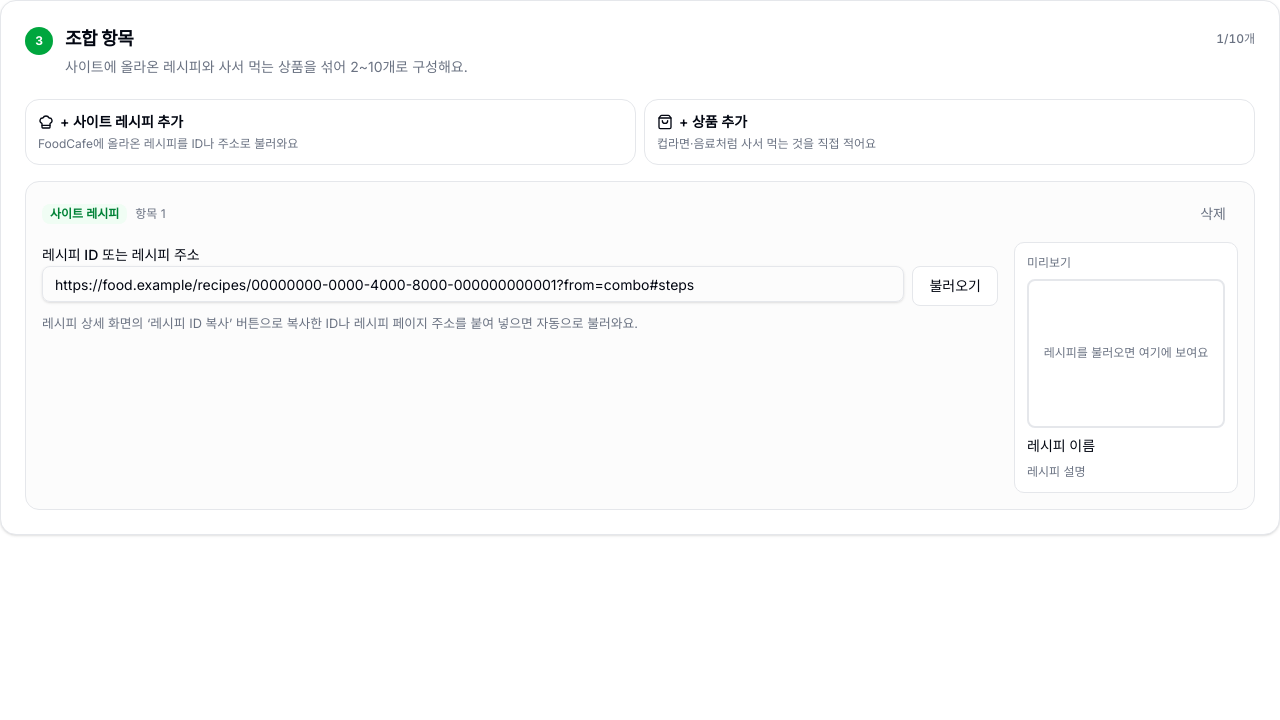
조합 레시피 불러오기 안내 › 쿼리와 해시가 포함된 레시피 링크에서 ID를 추출해 불러온다
The width and height of the screenshot is (1280, 720).
Click the button "불러오기" at (955, 286), box [912, 266, 998, 306]
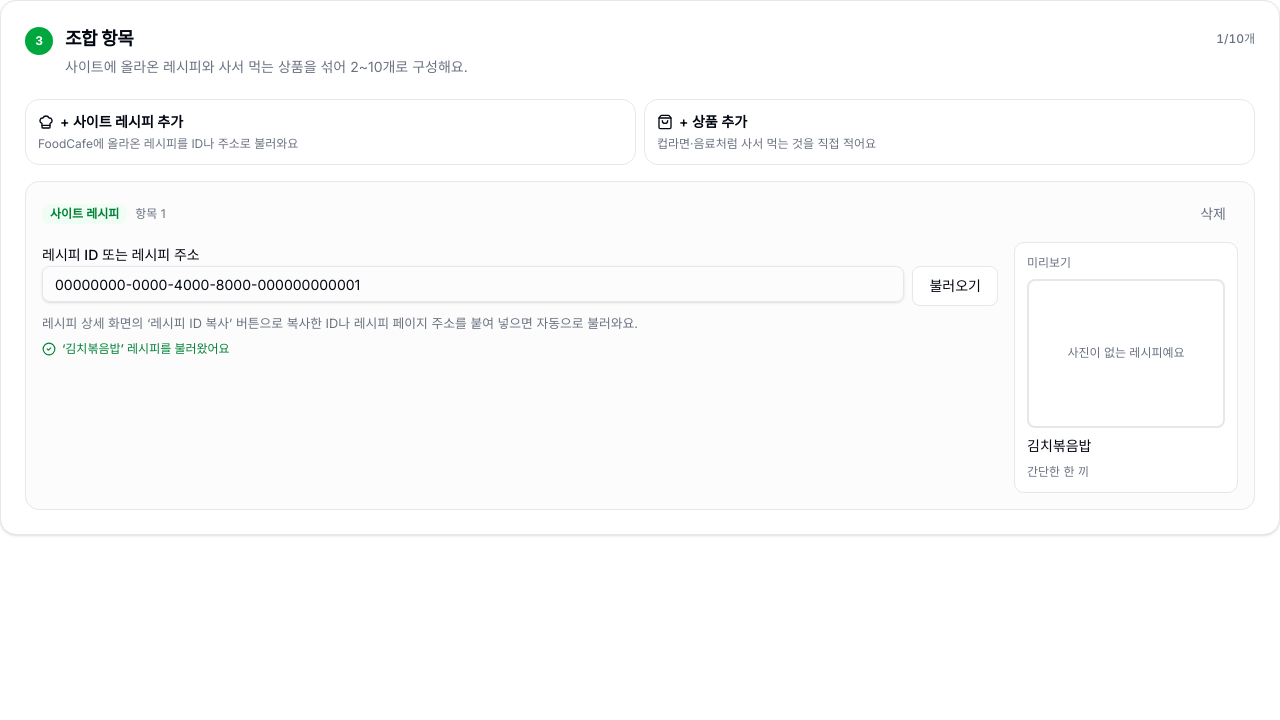
expect the text "간단한 한 끼" is shown: met, box [1027, 464, 1089, 478]
